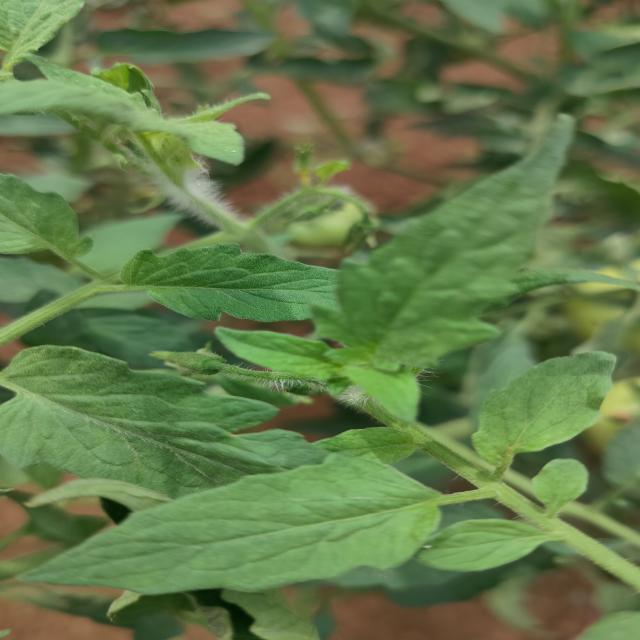tomato_healthy: (340, 110, 576, 365), (14, 453, 440, 590), (6, 342, 326, 494), (114, 243, 358, 322)
